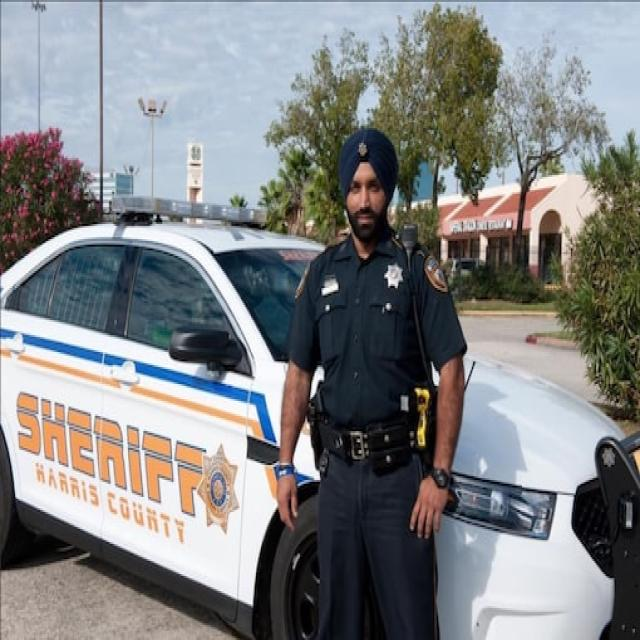police: (266, 90, 495, 640)
